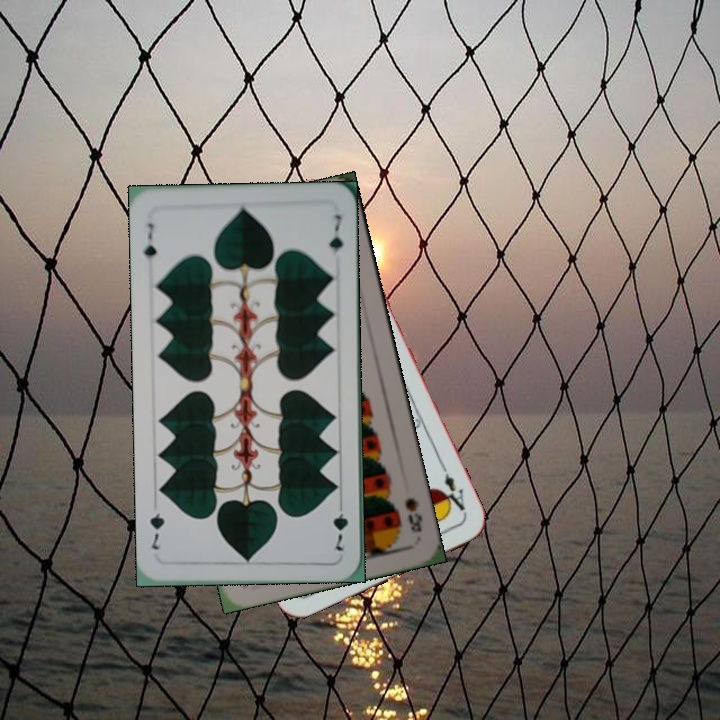EA: (436, 462, 470, 519)
G7: (329, 497, 351, 554), (140, 219, 159, 270)
S8: (401, 494, 425, 536)
